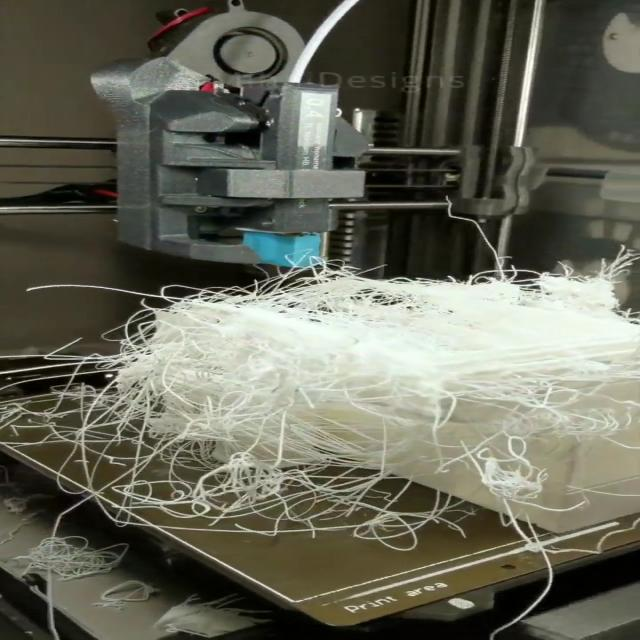spaghetti: (6, 255, 640, 580)
